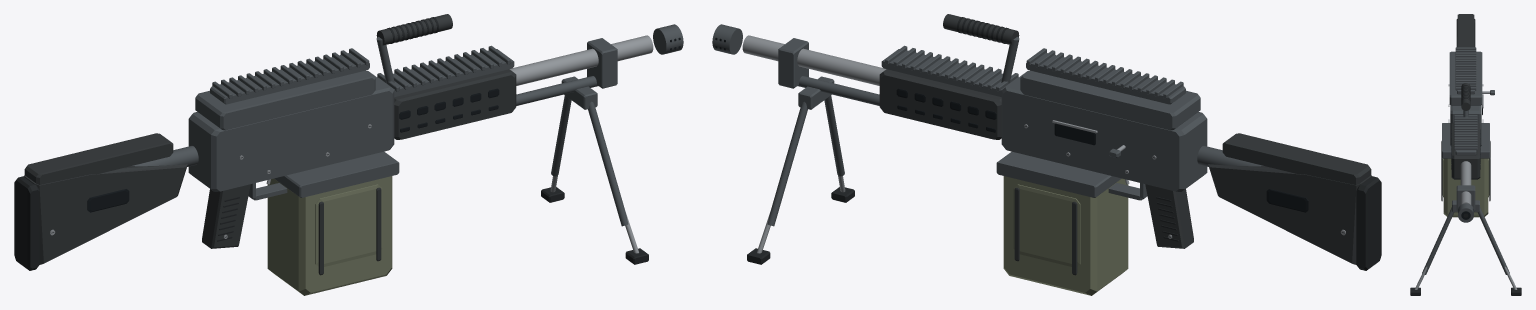
The model's file is 02_light_machine_gun.glb.
The picture shows the model from 3 angles, left to right: view 1: azimuth 30°, elevation 25°; view 2: azimuth 150°, elevation 25°; view 3: azimuth 270°, elevation 25°; orthographic projection. The views are drawn at different scales.
Parts seen in each view (by area): view 1: receiver_01, stock_shell_01, ammunition_box_01, handguard_01, feed_cover_01, box_reinforcement_02, cheek_rest_01, ammunition_box_lid_01, barrel_01, recoil_pad_01, pistol_grip_01, top_rail_spine_02 (+12 smaller); view 2: receiver_01, stock_shell_01, ammunition_box_01, handguard_01, feed_cover_01, box_reinforcement_01, cheek_rest_01, ammunition_box_lid_01, barrel_01, recoil_pad_01, pistol_grip_01, top_rail_spine_02 (+13 smaller); view 3: ammunition_box_01, feed_cover_01, handguard_01, ammunition_box_lid_01, cheek_rest_01, receiver_01, barrel_01, bipod_leg_01, bipod_leg_02, front_barrel_collar_01, carry_handle_01, muzzle_collar_01 (+10 smaller).
Boxes of the visible parts, x1=… form: receiver_01: x1=188, y1=71, x2=394, y2=191; stock_shell_01: x1=24, y1=164, x2=187, y2=264; ammunition_box_01: x1=267, y1=176, x2=392, y2=295; handguard_01: x1=394, y1=69, x2=516, y2=139; feed_cover_01: x1=195, y1=70, x2=375, y2=130; box_reinforcement_02: x1=315, y1=184, x2=382, y2=266; cheek_rest_01: x1=24, y1=133, x2=173, y2=184; ammunition_box_lid_01: x1=274, y1=151, x2=399, y2=197; barrel_01: x1=509, y1=35, x2=653, y2=85; recoil_pad_01: x1=14, y1=176, x2=39, y2=270; pistol_grip_01: x1=202, y1=184, x2=250, y2=248; top_rail_spine_02: x1=210, y1=53, x2=369, y2=104; receiver_01: x1=1001, y1=71, x2=1207, y2=191; stock_shell_01: x1=1208, y1=164, x2=1371, y2=264; ammunition_box_01: x1=1003, y1=176, x2=1128, y2=295; handguard_01: x1=879, y1=69, x2=1001, y2=139; feed_cover_01: x1=1020, y1=70, x2=1200, y2=130; box_reinforcement_01: x1=1013, y1=184, x2=1080, y2=266; cheek_rest_01: x1=1222, y1=133, x2=1371, y2=184; ammunition_box_lid_01: x1=996, y1=151, x2=1121, y2=197; barrel_01: x1=742, y1=35, x2=886, y2=85; recoil_pad_01: x1=1356, y1=176, x2=1381, y2=270; pistol_grip_01: x1=1145, y1=184, x2=1193, y2=248; top_rail_spine_02: x1=1026, y1=53, x2=1185, y2=104; ammunition_box_01: x1=1443, y1=158, x2=1488, y2=217; feed_cover_01: x1=1449, y1=51, x2=1482, y2=105; handguard_01: x1=1451, y1=122, x2=1480, y2=179; ammunition_box_lid_01: x1=1442, y1=123, x2=1489, y2=158; cheek_rest_01: x1=1457, y1=14, x2=1474, y2=47; receiver_01: x1=1450, y1=105, x2=1481, y2=146; barrel_01: x1=1460, y1=161, x2=1471, y2=204; bipod_leg_01: x1=1477, y1=207, x2=1509, y2=274; bipod_leg_02: x1=1422, y1=207, x2=1454, y2=274; front_barrel_collar_01: x1=1456, y1=185, x2=1475, y2=211; carry_handle_01: x1=1461, y1=83, x2=1470, y2=110; muzzle_collar_01: x1=1458, y1=203, x2=1473, y2=222.
Bounding box in the file's own units: 1.07 × 0.3925 × 0.266.
